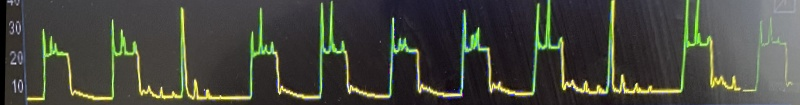hydrop_pressure: (21, 1, 800, 105)
